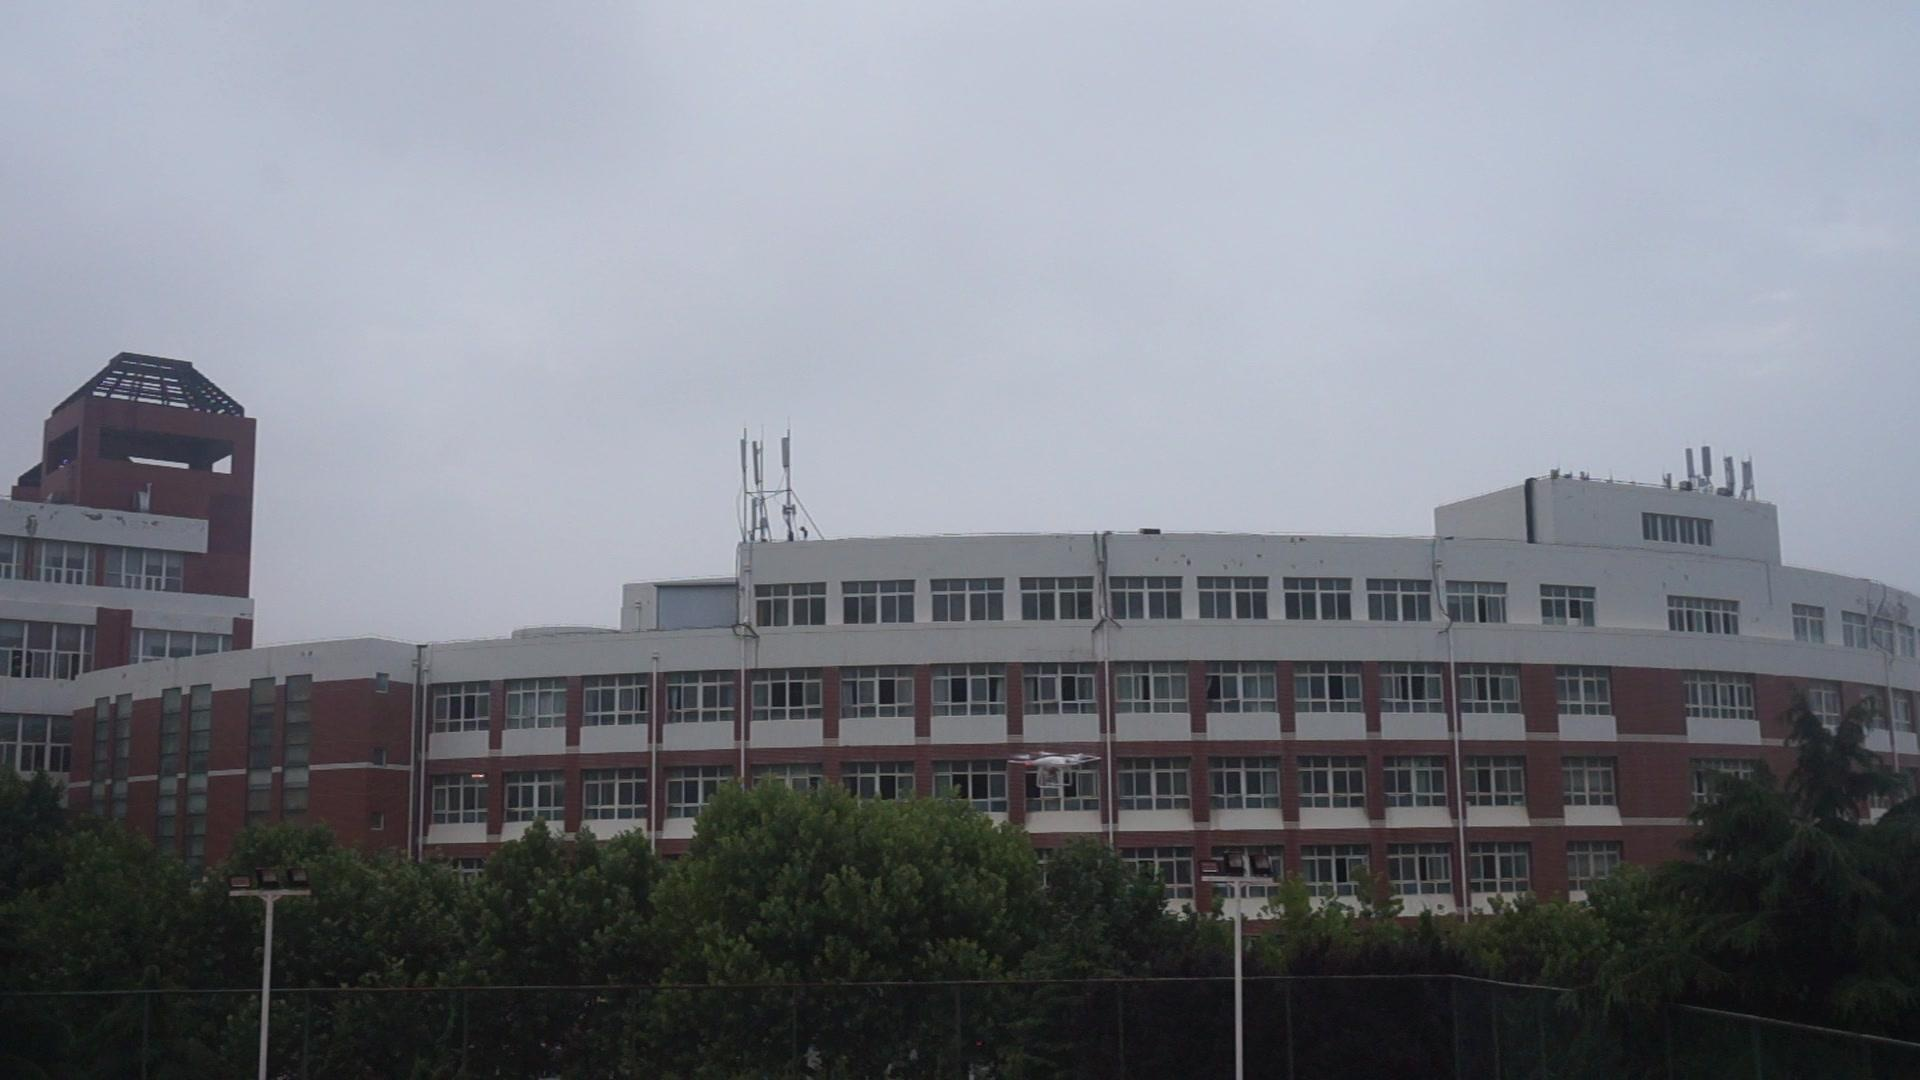UAV: (1007, 752, 1102, 790)
